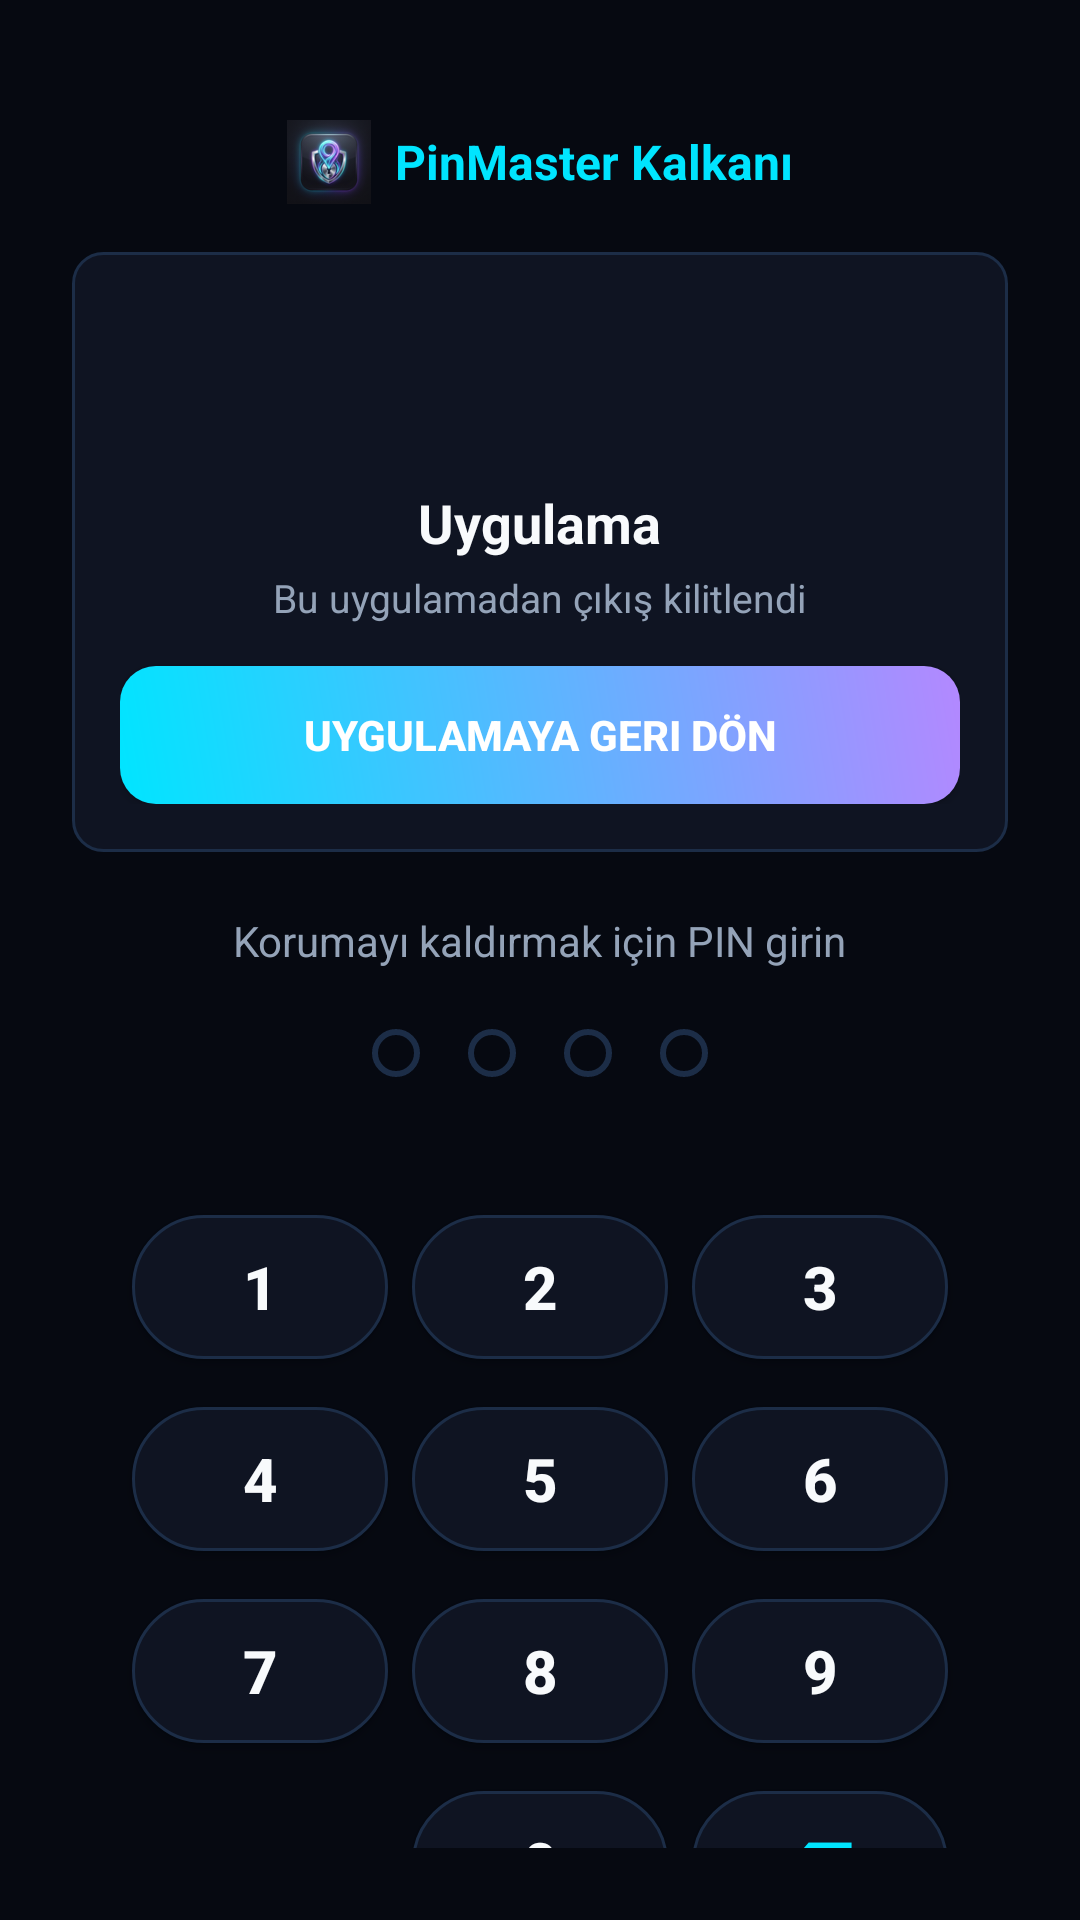

Icons on this 1080 x 1920 Android screen, each with its box as [x1,y1,x2,y2]:
pin dot empty: [372,1029,420,1077], [468,1029,516,1077], [564,1029,612,1077], [660,1029,708,1077]
